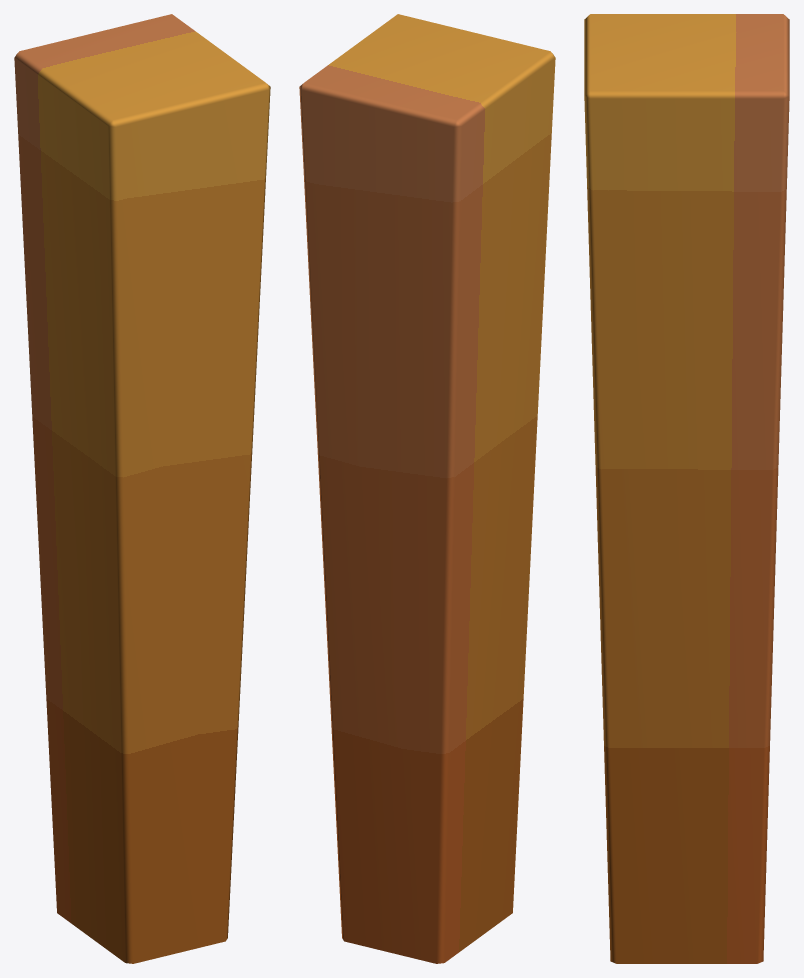
Rendered from SM_Post.fbx.
The picture shows the model from 3 angles, left to right: view 1: azimuth 30°, elevation 25°; view 2: azimuth 150°, elevation 25°; view 3: azimuth 270°, elevation 25°; orthographic projection. The views are drawn at different scales.
Visible parts, largest first — view 1: post_geo; view 2: post_geo; view 3: post_geo.
Part boxes in pixels (x1,y1,x2,y2): post_geo: (14,14,270,963); post_geo: (299,14,555,963); post_geo: (584,14,789,963).
Bounding box in the file's own units: 32.15 × 162 × 34.06.
1 material, 1 textured.
